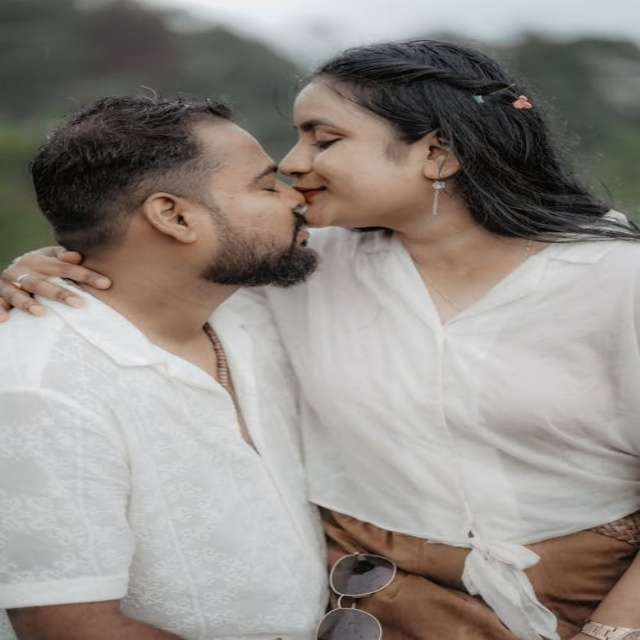Sin_gafas: (211, 163, 288, 201), (287, 112, 360, 151)
Sin_guantes: (2, 245, 110, 320)
Sin_mascara: (227, 213, 314, 263), (292, 180, 360, 218)
